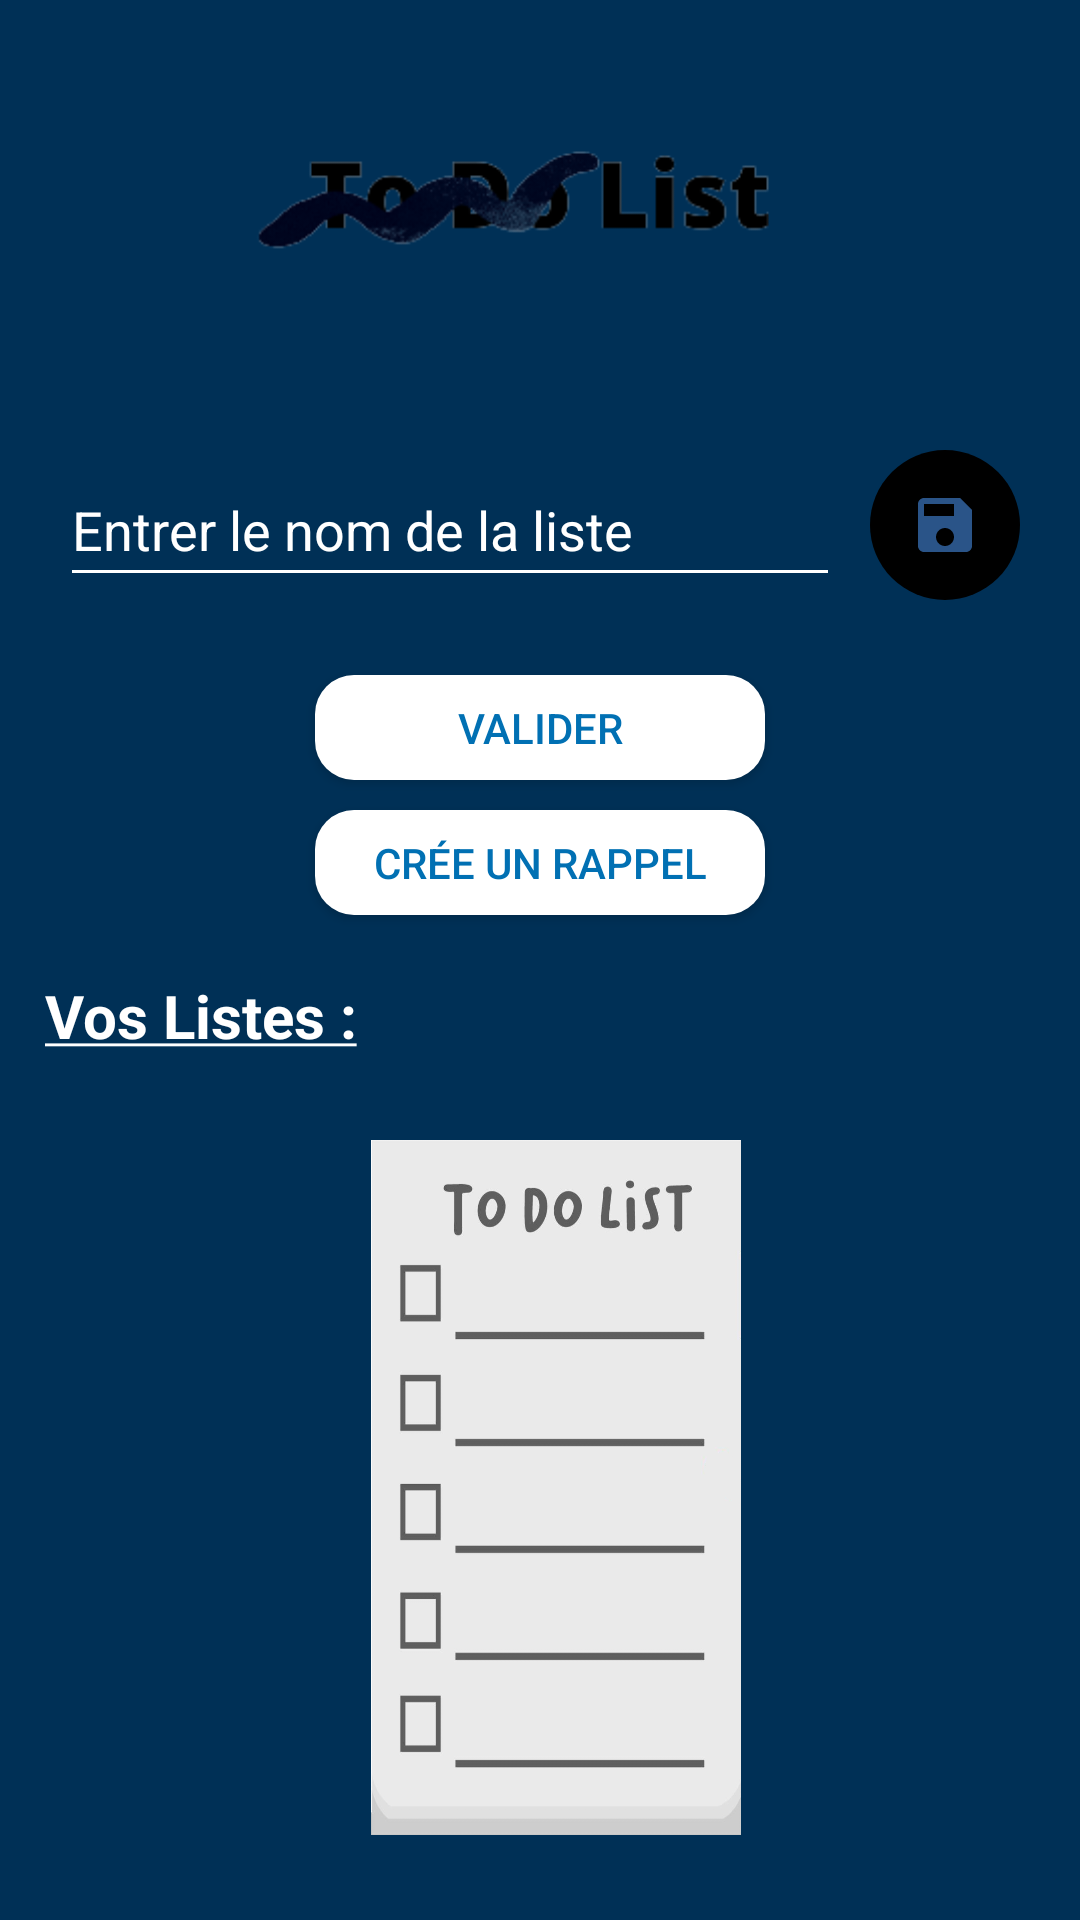

Screen size 1080*1920. Icon name, then its center in pixels as point (x, y):
save: point (945, 525)
